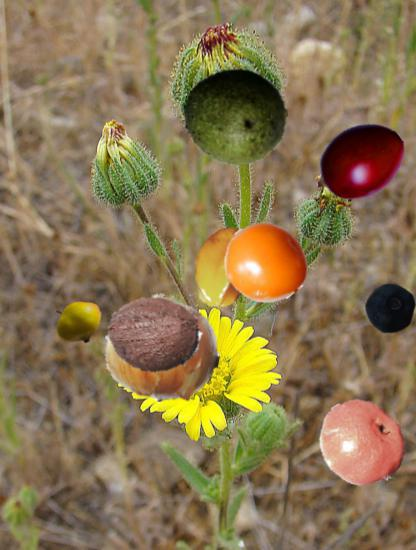Apple: (54, 298, 105, 349)
Avocado: (185, 65, 288, 168)
Blueberry: (364, 283, 415, 334)
Carambula: (184, 225, 271, 312)
Clementine: (315, 397, 410, 492)
Cocos: (105, 285, 204, 384)
Onion: (104, 292, 221, 409)
Tamarillo: (312, 115, 408, 211)
Tomato: (223, 221, 307, 305)
